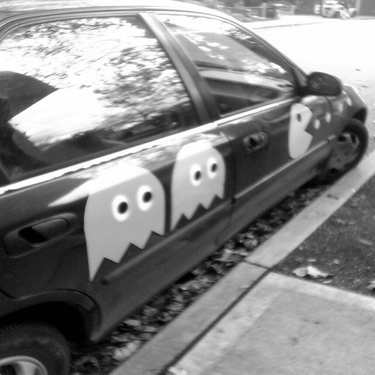car: (1, 25, 373, 374), (315, 1, 349, 23)
